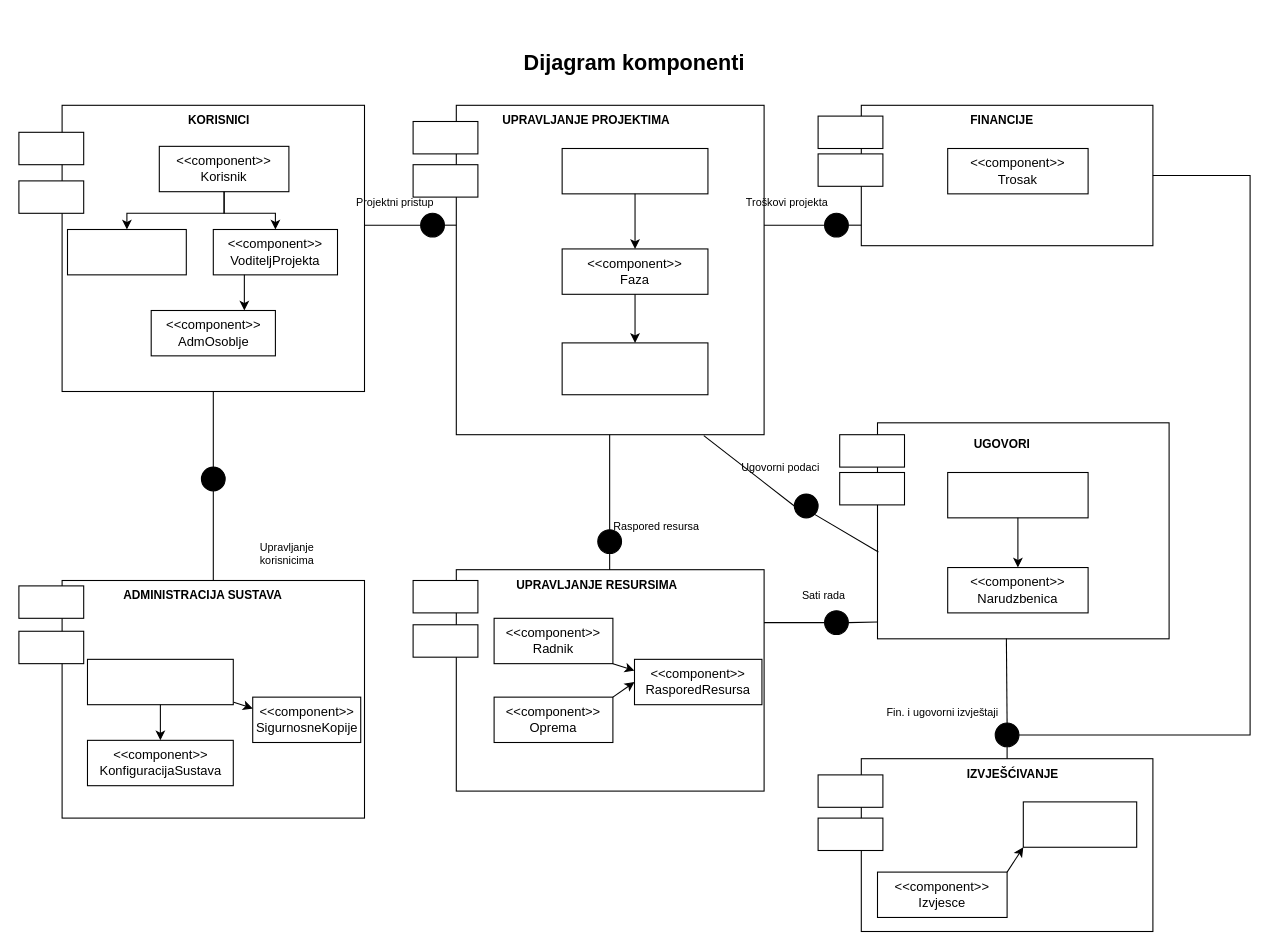
Image size: 1270x950. Some labels were removed from this diagram. The shapes that lost their labels are listed below. From the top down, each one's box as (x1, y1, x2, y2) in pixels, then its label:
(561, 147, 708, 194): <<component>> Projekt
(66, 228, 186, 275): <<component>> Administrator
(561, 342, 708, 395): <<component>> ZapisDnevnika
(947, 471, 1088, 518): <<component>> Ugovor
(86, 658, 233, 705): <<component>> UpravljanjeKorisnicima
(1022, 801, 1137, 847): <<component>> Analitika
